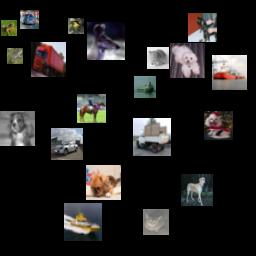automobile: (51, 128, 83, 160), (20, 10, 39, 29)
bird: (68, 18, 84, 34)
cat: (188, 13, 217, 42), (143, 209, 169, 235), (147, 47, 169, 69)
deer: (87, 22, 125, 60)
dog: (86, 165, 121, 200), (170, 43, 205, 78), (0, 111, 35, 146), (181, 174, 213, 206), (204, 111, 233, 140)
frog: (7, 48, 23, 64), (1, 20, 17, 36)
ship: (64, 203, 102, 241), (212, 55, 247, 90), (134, 76, 156, 98)
truck: (133, 118, 171, 156), (31, 42, 66, 77)
